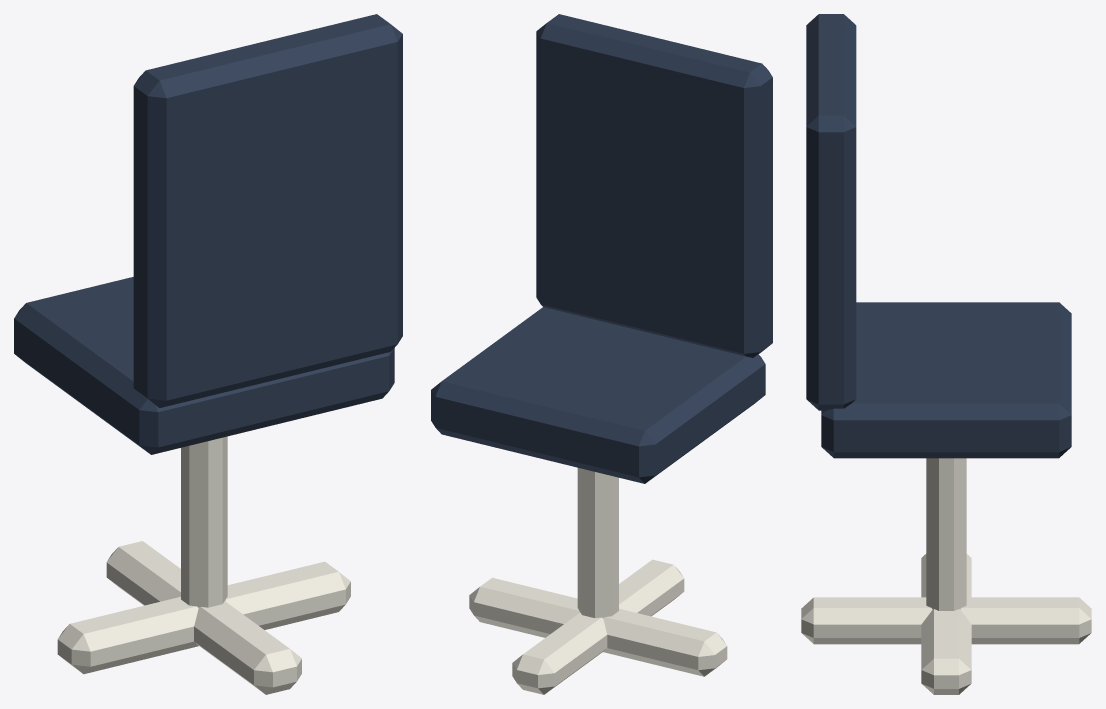
File: chair.glb
The picture shows the model from 3 angles, left to right: view 1: azimuth 30°, elevation 25°; view 2: azimuth 150°, elevation 25°; view 3: azimuth 270°, elevation 25°; orthographic projection. The views are drawn at different scales.
Visible parts, largest first — view 1: Chair back, Chair seat, Chair base, Chair base cross, Chair stem; view 2: Chair back, Chair seat, Chair base, Chair base cross, Chair stem; view 3: Chair seat, Chair back, Chair base cross, Chair stem, Chair base.
Boxes of the visible parts, x1,y1,x2,y2 form: Chair back: (133,14,402,407); Chair seat: (14,277,394,454); Chair base: (57,561,350,674); Chair base cross: (106,541,301,694); Chair stem: (181,436,227,607); Chair back: (536,14,772,357); Chair seat: (431,307,765,483); Chair base: (469,577,727,676); Chair base cross: (512,559,684,694); Chair stem: (577,468,618,618); Chair seat: (821,302,1071,458); Chair back: (806,14,856,410); Chair base cross: (801,597,1091,644); Chair stem: (926,458,966,610); Chair base: (921,554,971,694).
Bounding box in the file's own units: 0.58 × 1.27 × 0.58.
